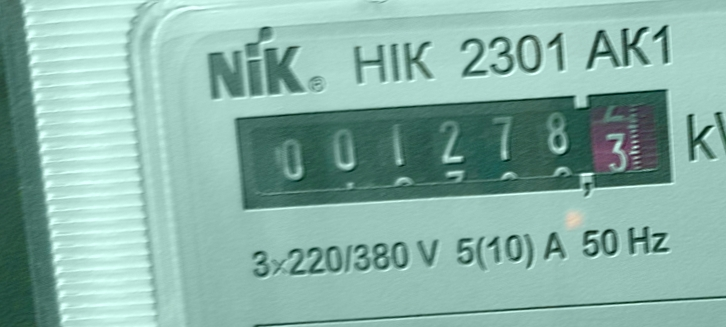0: (279, 135, 306, 182), (330, 126, 357, 173)
1: (388, 120, 407, 166)
2: (437, 119, 464, 166), (601, 103, 625, 123)
3: (603, 130, 630, 174)
7: (490, 114, 513, 161)
8: (545, 111, 570, 155)
screen: (220, 73, 690, 225)
